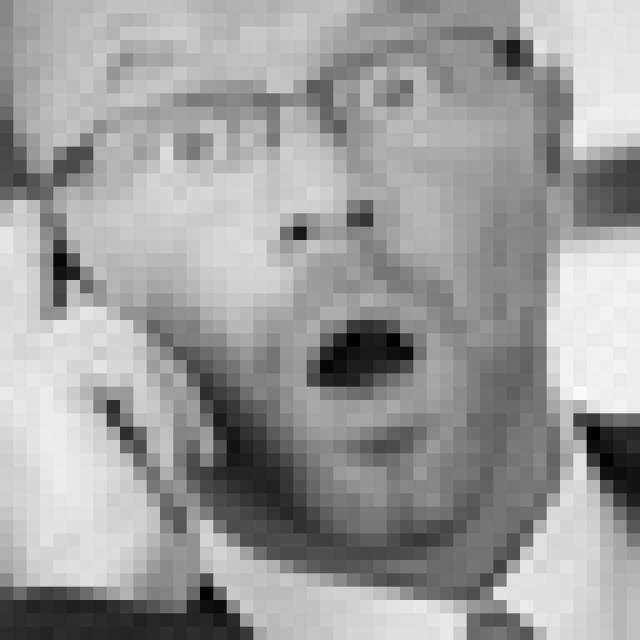surprise: (96, 10, 493, 465)
